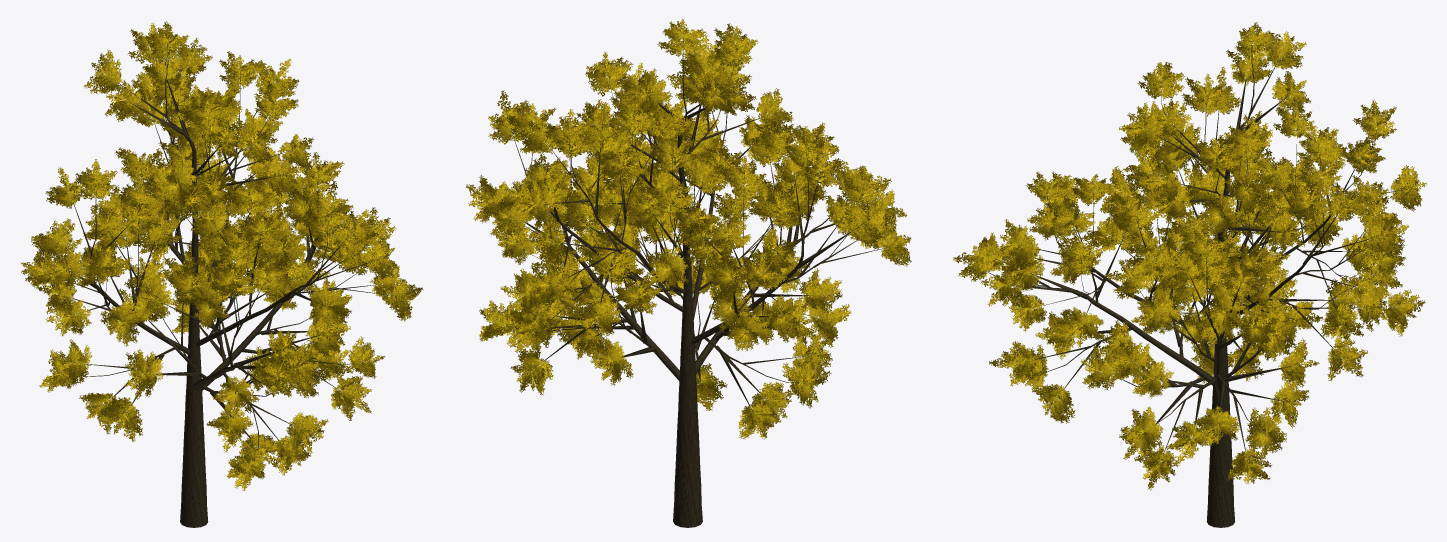
File: tree (3).glb
3 renders of one model, left to right at view 1: azimuth 30°, elevation 25°; view 2: azimuth 150°, elevation 25°; view 3: azimuth 270°, elevation 25°, orthographic. The views are drawn at different scales.
Visible parts, largest first — view 1: Tree; view 2: Tree; view 3: Tree.
Part boxes in pixels (x1=…): Tree: x1=21, y1=21, x2=423, y2=527; Tree: x1=466, y1=19, x2=911, y2=527; Tree: x1=953, y1=22, x2=1426, y2=527.
Size of the model in its own units: 81.62 by 105 by 92.36.
Materials: 2 (2 with a texture image).
